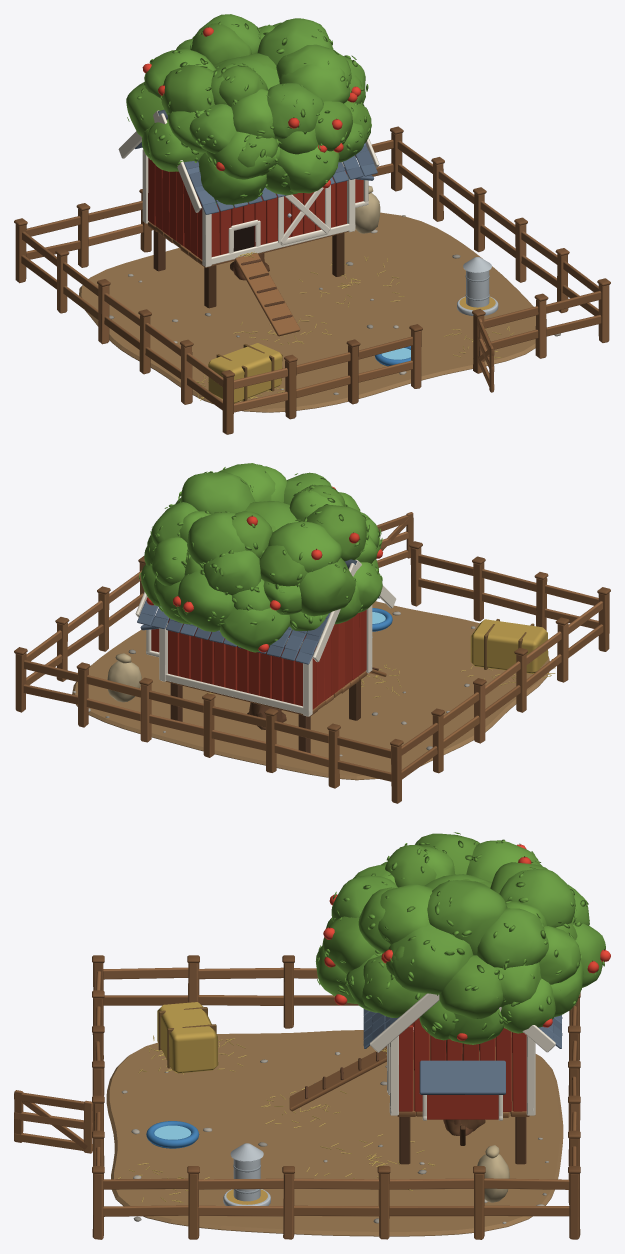
File: farm.glb
3 renders of one model, top to bottom at view 1: azimuth 30°, elevation 25°; view 2: azimuth 150°, elevation 25°; view 3: azimuth 270°, elevation 25°, orthographic. The views are drawn at different scales.
Visible parts, largest first — view 1: coop, apple_tree_b, apple_tree; view 2: coop, apple_tree, apple_tree_b; view 3: coop, apple_tree, apple_tree_b.
Boxes of the visible parts, box(x1,y1,x2,y2) form: coop: box(14, 109, 610, 434); apple_tree_b: box(126, 23, 371, 280); apple_tree: box(142, 14, 364, 271); coop: box(14, 512, 610, 803); apple_tree: box(139, 463, 382, 729); apple_tree_b: box(144, 463, 382, 726); coop: box(14, 955, 580, 1239); apple_tree: box(326, 839, 610, 1135); apple_tree_b: box(315, 832, 583, 1135).
Size of what is drawn, in the model's own units: 3.44 by 2.05 by 4.01.
